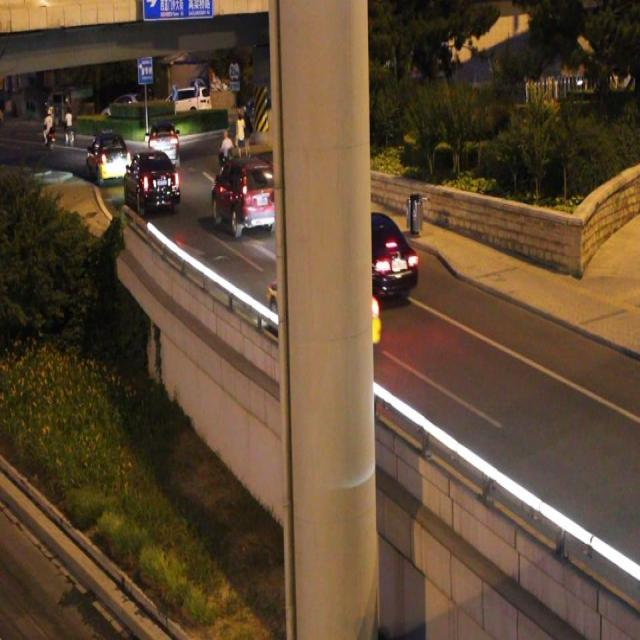car: (264, 250, 381, 358), (314, 209, 417, 304), (212, 156, 282, 235), (124, 150, 181, 213)
